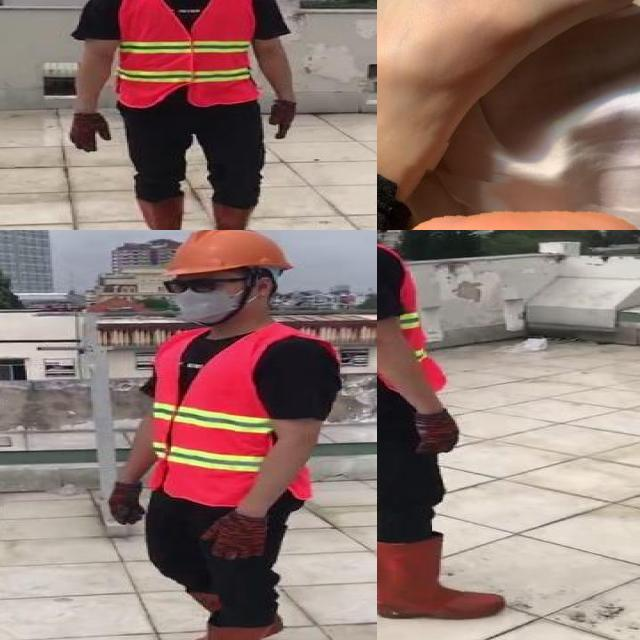Barefoots: (377, 0, 640, 207)
boots: (377, 530, 506, 619), (135, 198, 189, 230), (210, 199, 263, 230)
face_mask: (160, 274, 240, 324)
glasses: (158, 276, 244, 295)
hand_glove: (199, 513, 267, 561), (409, 413, 462, 454), (67, 112, 111, 153), (107, 481, 146, 525), (269, 99, 294, 142)
head_helmet: (159, 230, 290, 277)
person: (92, 230, 346, 640), (61, 0, 315, 230), (377, 230, 516, 624)
vest: (150, 325, 324, 504), (107, 0, 256, 105), (377, 234, 440, 406)
